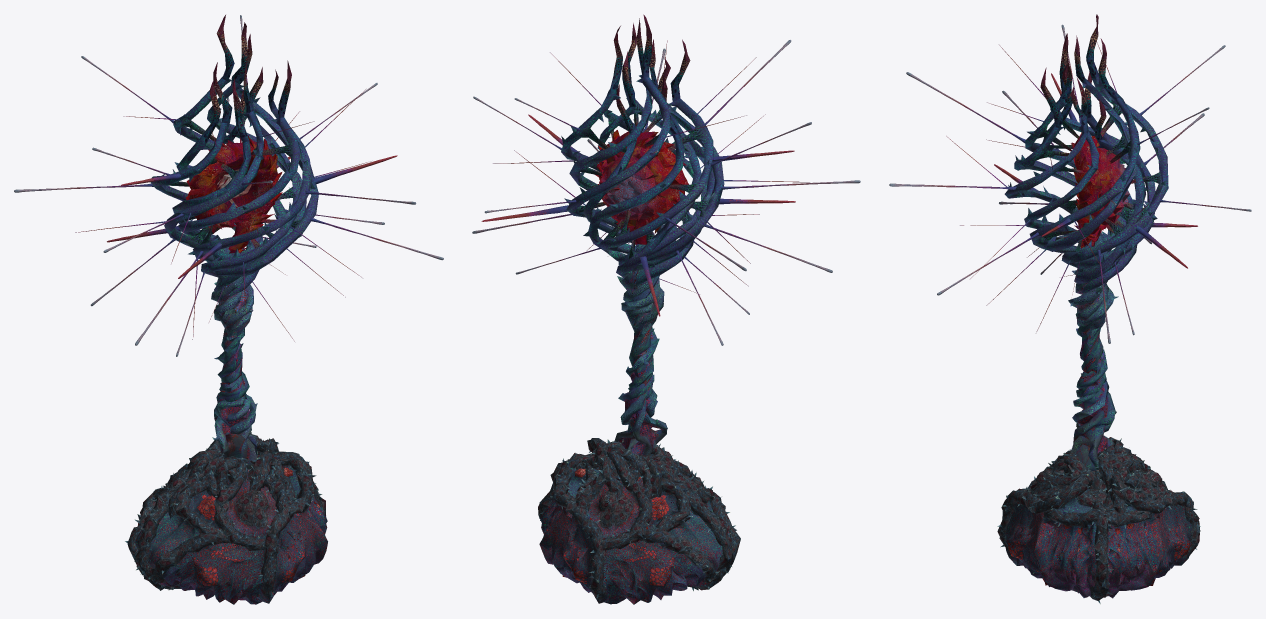
The model's file is ssibal.fbx.
3 views of the same model, side by side, from view 1: azimuth 30°, elevation 25°; view 2: azimuth 150°, elevation 25°; view 3: azimuth 270°, elevation 25° (orthographic).
Visible parts, largest first — view 1: LODGroup_1_MainMesh_1_SubMesh_1_2, LODGroup_1_MainMesh_1_SubMesh_2, LODGroup_1_MainMesh_2_SubMesh_1, LODGroup_1_MainMesh_2_SubMesh_2, LODGroup_1_MainMesh_1_SubMesh_1_3, LODGroup_1_MainMesh_1_SubMesh_1, LODGroup_1_MainMesh_1_SubMesh_2_2, LODGroup_1_MainMesh_1_SubMesh_4, LODGroup_1_MainMesh_1_SubMesh_3; view 2: LODGroup_1_MainMesh_1_SubMesh_1_2, LODGroup_1_MainMesh_1_SubMesh_2_1, LODGroup_1_MainMesh_1_SubMesh_1_3, LODGroup_1_MainMesh_1_SubMesh_3, LODGroup_1_MainMesh_1_SubMesh_1_1, LODGroup_1_MainMesh_1_SubMesh_4, LODGroup_1_MainMesh_1_SubMesh_2_2, LODGroup_1_MainMesh_2_SubMesh_1, LODGroup_1_MainMesh_2_SubMesh_2; view 3: LODGroup_1_MainMesh_1_SubMesh_1_2, LODGroup_1_MainMesh_1_SubMesh_1, LODGroup_1_MainMesh_1_SubMesh_1_3, LODGroup_1_MainMesh_1_SubMesh_1_1, LODGroup_1_MainMesh_2_SubMesh_1, LODGroup_1_MainMesh_1_SubMesh_2_2, LODGroup_1_MainMesh_1_SubMesh_3, LODGroup_1_MainMesh_2_SubMesh_2, LODGroup_1_MainMesh_1_SubMesh_4, LODGroup_1_MainMesh_1_SubMesh_2.
Part boxes in pixels (<box>): LODGroup_1_MainMesh_1_SubMesh_1_2: <box>107,15,397,297</box>; LODGroup_1_MainMesh_1_SubMesh_2: <box>157,465,287,604</box>; LODGroup_1_MainMesh_2_SubMesh_1: <box>135,437,325,594</box>; LODGroup_1_MainMesh_2_SubMesh_2: <box>136,440,319,595</box>; LODGroup_1_MainMesh_1_SubMesh_1_3: <box>206,247,257,469</box>; LODGroup_1_MainMesh_1_SubMesh_1: <box>148,467,327,603</box>; LODGroup_1_MainMesh_1_SubMesh_2_2: <box>14,15,443,356</box>; LODGroup_1_MainMesh_1_SubMesh_4: <box>127,438,278,575</box>; LODGroup_1_MainMesh_1_SubMesh_3: <box>125,432,301,570</box>; LODGroup_1_MainMesh_1_SubMesh_1_2: <box>481,14,795,316</box>; LODGroup_1_MainMesh_1_SubMesh_2_1: <box>586,468,711,604</box>; LODGroup_1_MainMesh_1_SubMesh_1_3: <box>614,244,667,466</box>; LODGroup_1_MainMesh_1_SubMesh_3: <box>550,439,719,601</box>; LODGroup_1_MainMesh_1_SubMesh_1_1: <box>539,465,722,603</box>; LODGroup_1_MainMesh_1_SubMesh_4: <box>552,441,716,596</box>; LODGroup_1_MainMesh_1_SubMesh_2_2: <box>472,40,860,345</box>; LODGroup_1_MainMesh_2_SubMesh_1: <box>539,438,740,591</box>; LODGroup_1_MainMesh_2_SubMesh_2: <box>538,438,736,588</box>; LODGroup_1_MainMesh_1_SubMesh_1_2: <box>994,14,1197,306</box>; LODGroup_1_MainMesh_1_SubMesh_1: <box>1005,503,1096,597</box>; LODGroup_1_MainMesh_1_SubMesh_1_3: <box>1068,236,1118,470</box>; LODGroup_1_MainMesh_1_SubMesh_1_1: <box>1107,474,1192,598</box>; LODGroup_1_MainMesh_2_SubMesh_1: <box>997,438,1126,604</box>; LODGroup_1_MainMesh_1_SubMesh_2_2: <box>889,24,1251,343</box>; LODGroup_1_MainMesh_1_SubMesh_3: <box>1087,437,1200,557</box>; LODGroup_1_MainMesh_2_SubMesh_2: <box>998,440,1123,600</box>; LODGroup_1_MainMesh_1_SubMesh_4: <box>1090,440,1200,534</box>; LODGroup_1_MainMesh_1_SubMesh_2: <box>1030,469,1091,513</box>.
Size of the model in its own units: 2089 by 3421 by 1991.
